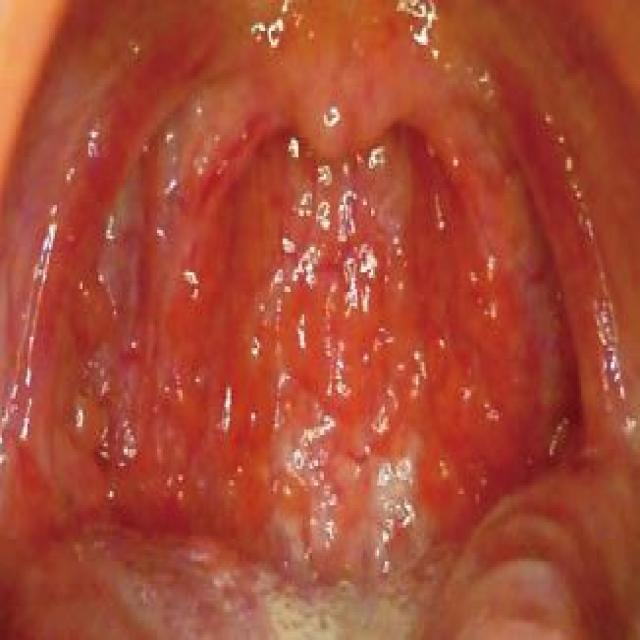Non Pharyngitis: (481, 202, 640, 477), (54, 228, 197, 462)
